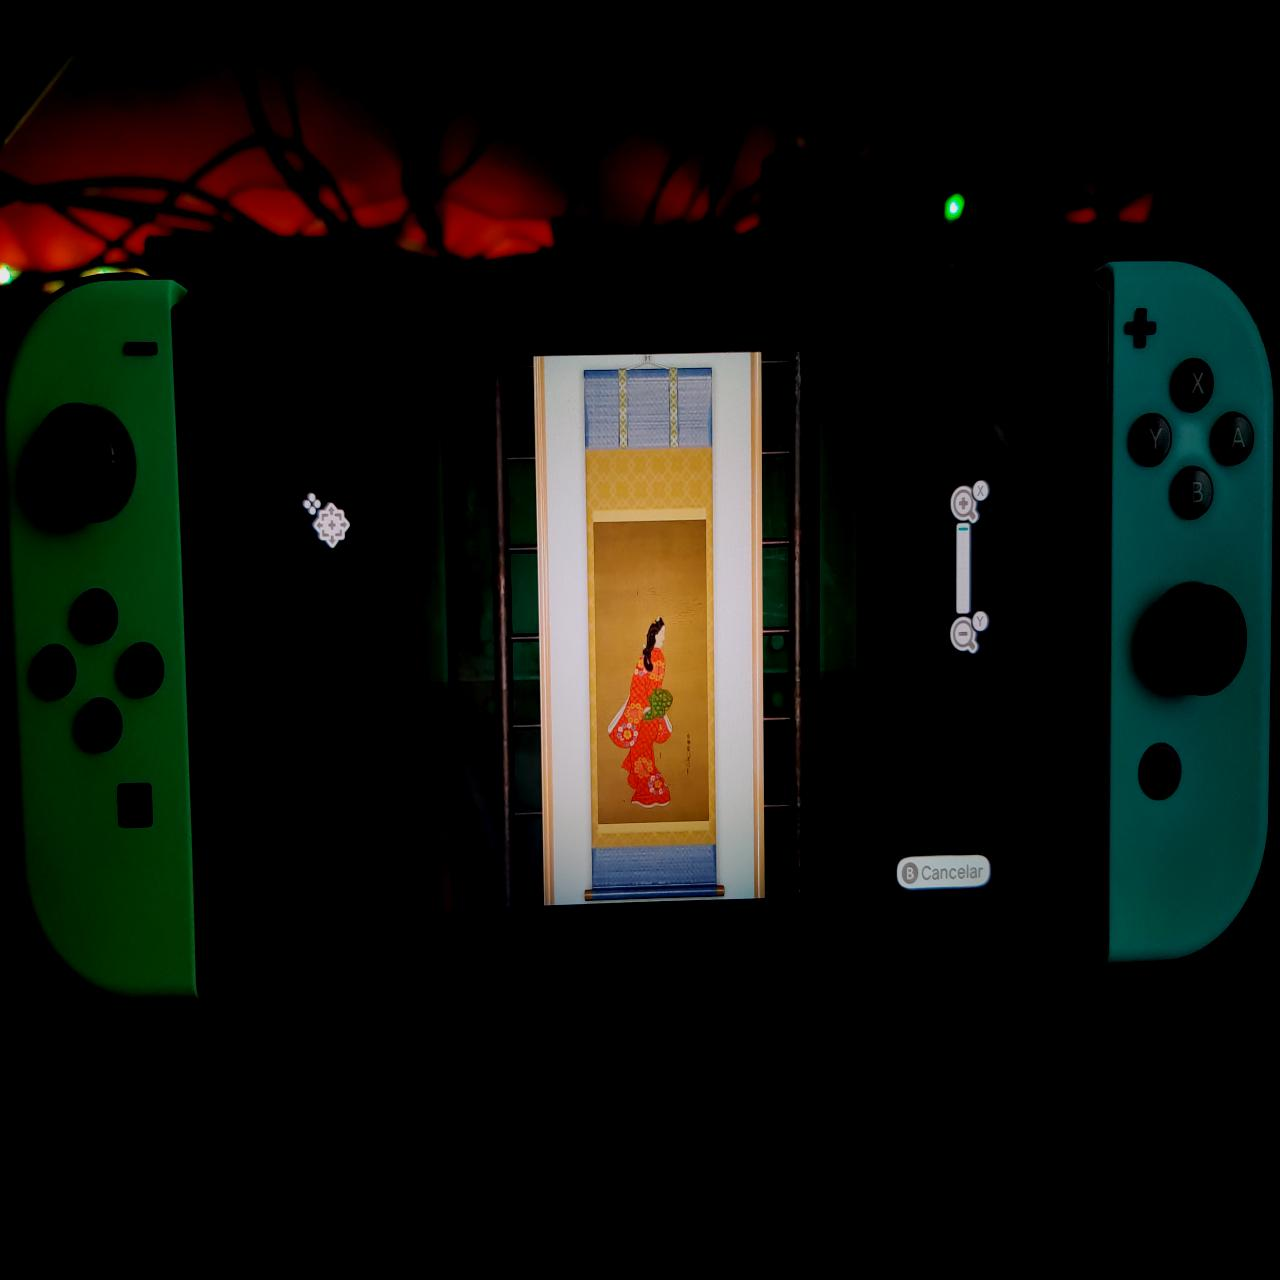Mikaeri: (595, 510, 710, 832)
